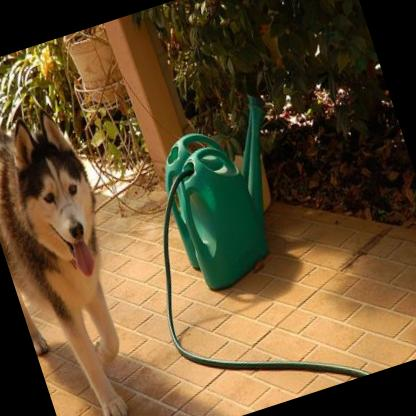Siberian_husky: (0, 101, 163, 416)
